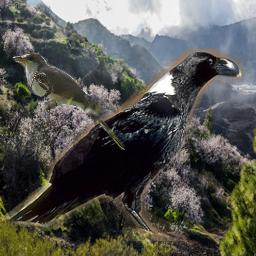Crow: (5, 49, 244, 241)
Cuckoo: (12, 53, 125, 150)
